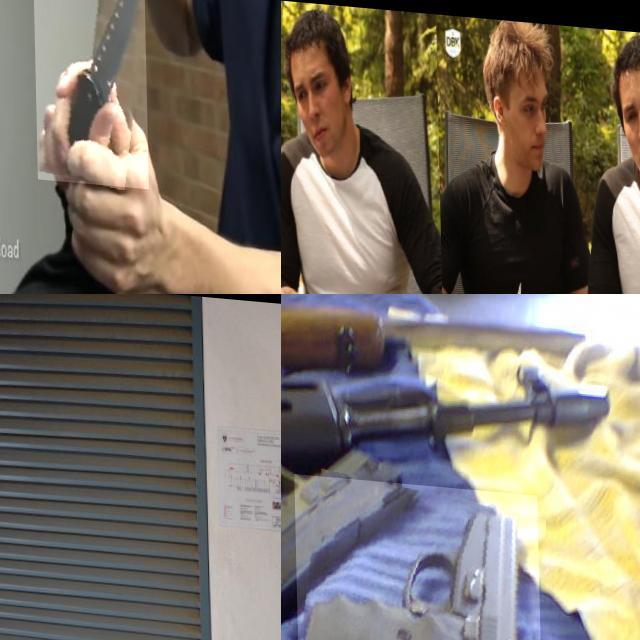-: (31, 0, 146, 182), (281, 163, 299, 261), (490, 263, 526, 294)
gun-knife-thesis - v11 Yolov5 augmented: (293, 469, 540, 640), (281, 413, 442, 640)
